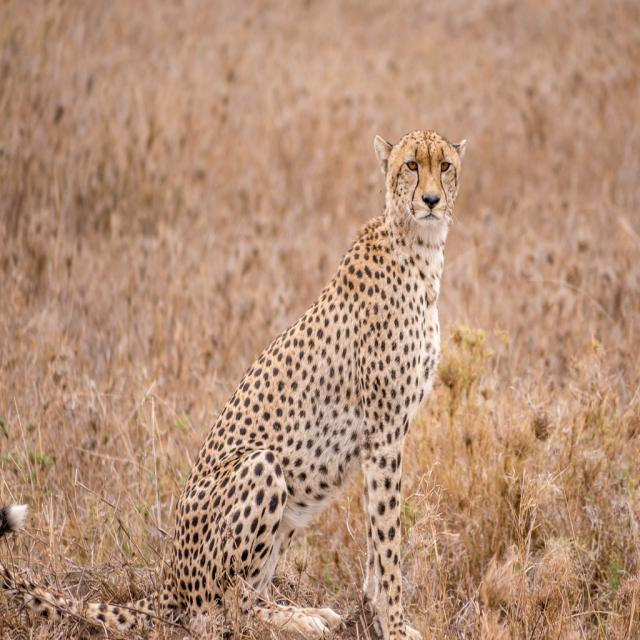Cheetah: (0, 126, 466, 640)
